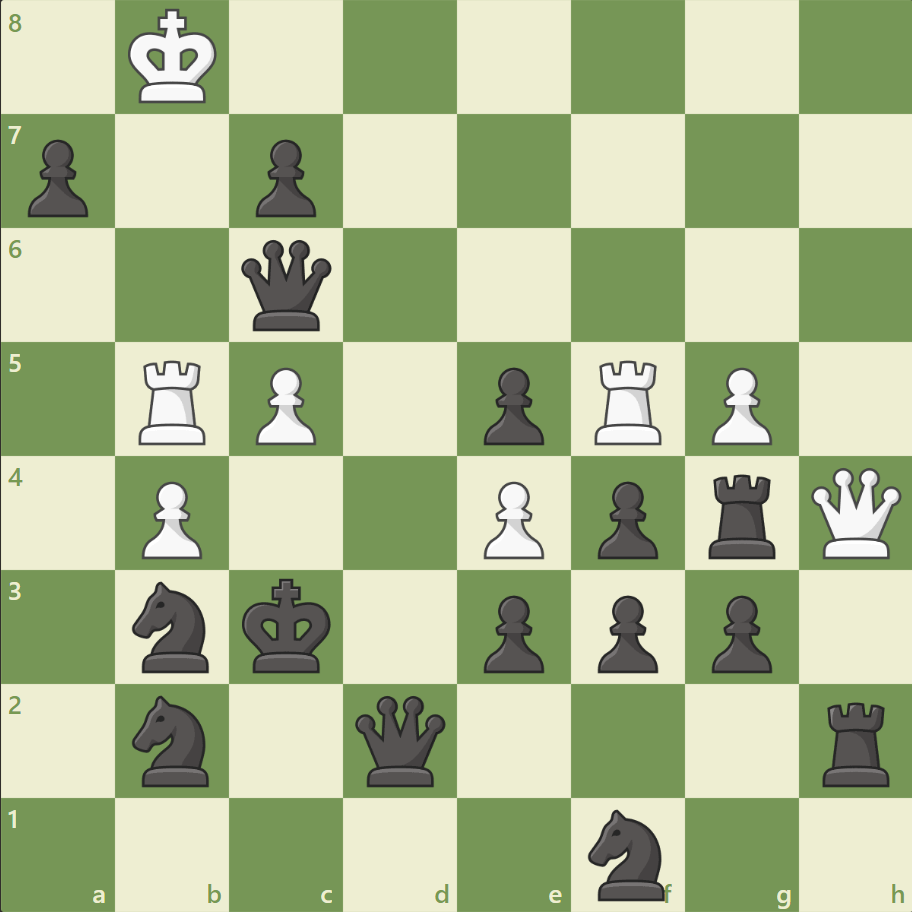K: (124, 4, 224, 112)
P: (247, 359, 322, 450), (701, 359, 776, 450), (133, 473, 208, 564), (474, 473, 549, 564)
Q: (805, 463, 904, 562)
R: (587, 352, 670, 449), (133, 352, 215, 449)
k: (238, 571, 338, 679)
n: (124, 688, 222, 791), (124, 575, 222, 677), (579, 802, 676, 904)
p: (20, 132, 95, 223), (247, 132, 322, 223), (474, 359, 549, 450), (474, 586, 549, 677), (701, 586, 776, 677), (588, 473, 662, 564), (588, 586, 662, 677)
q: (237, 236, 336, 335), (351, 690, 450, 789)
r: (700, 466, 783, 563), (814, 693, 897, 790)
